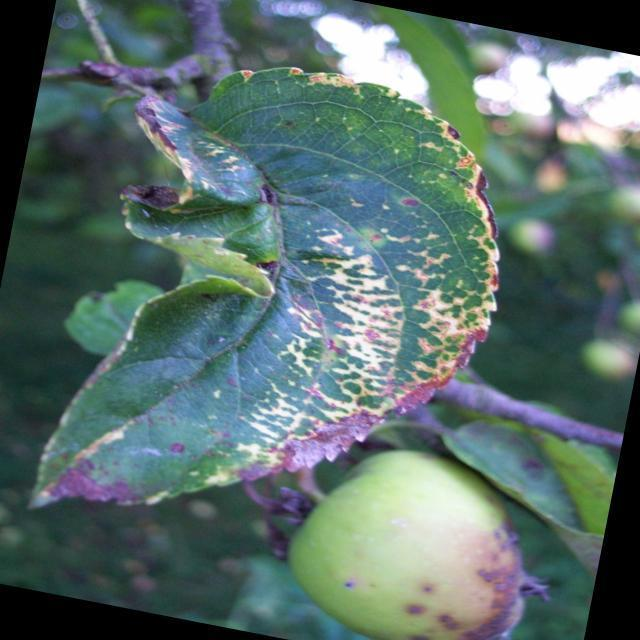Mosaic Virus: (192, 60, 509, 488)
